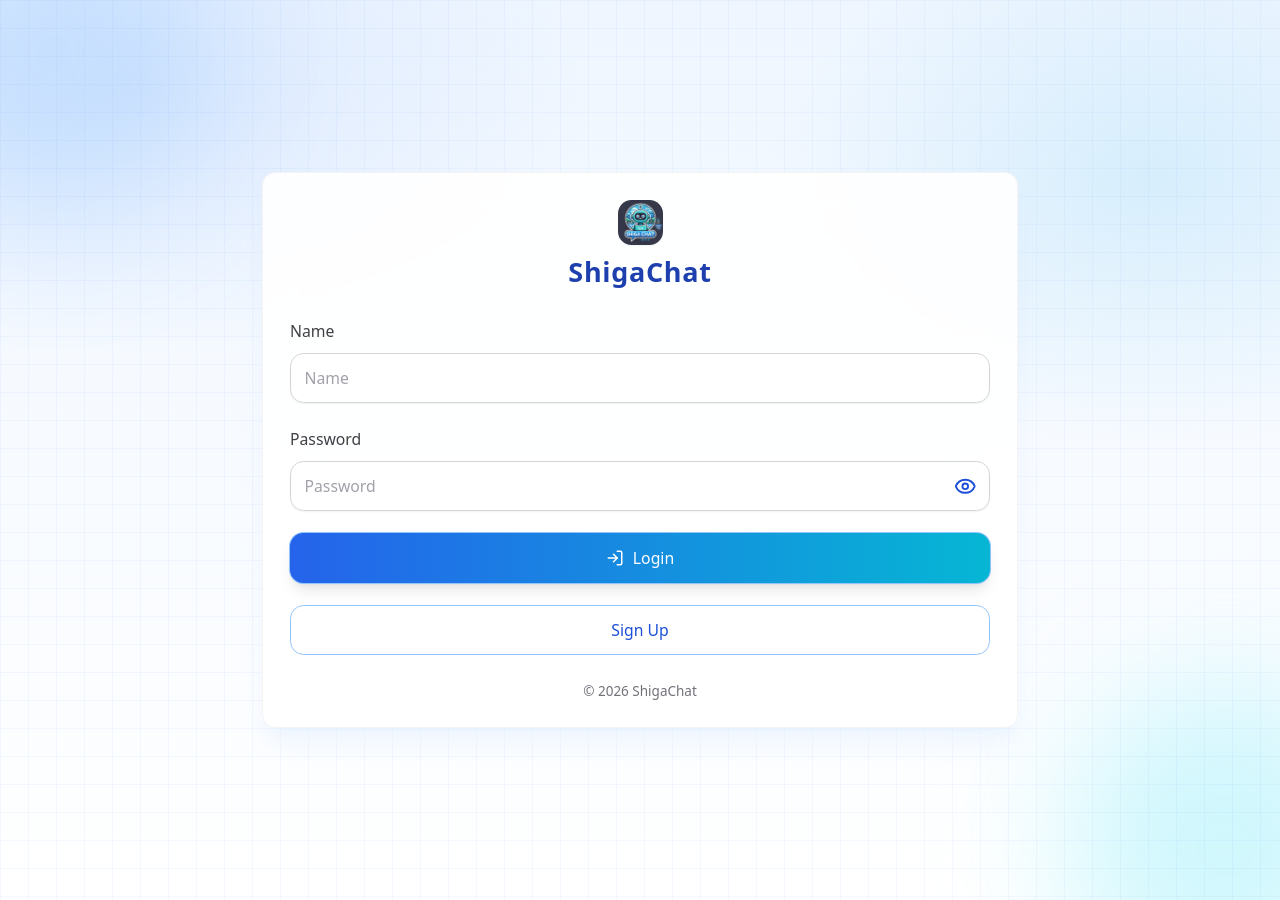
Test: revealing a password preserves the value and does not submit the form
Type "password123" into the password field labelled "Password" at [640, 486], box [290, 461, 990, 511]
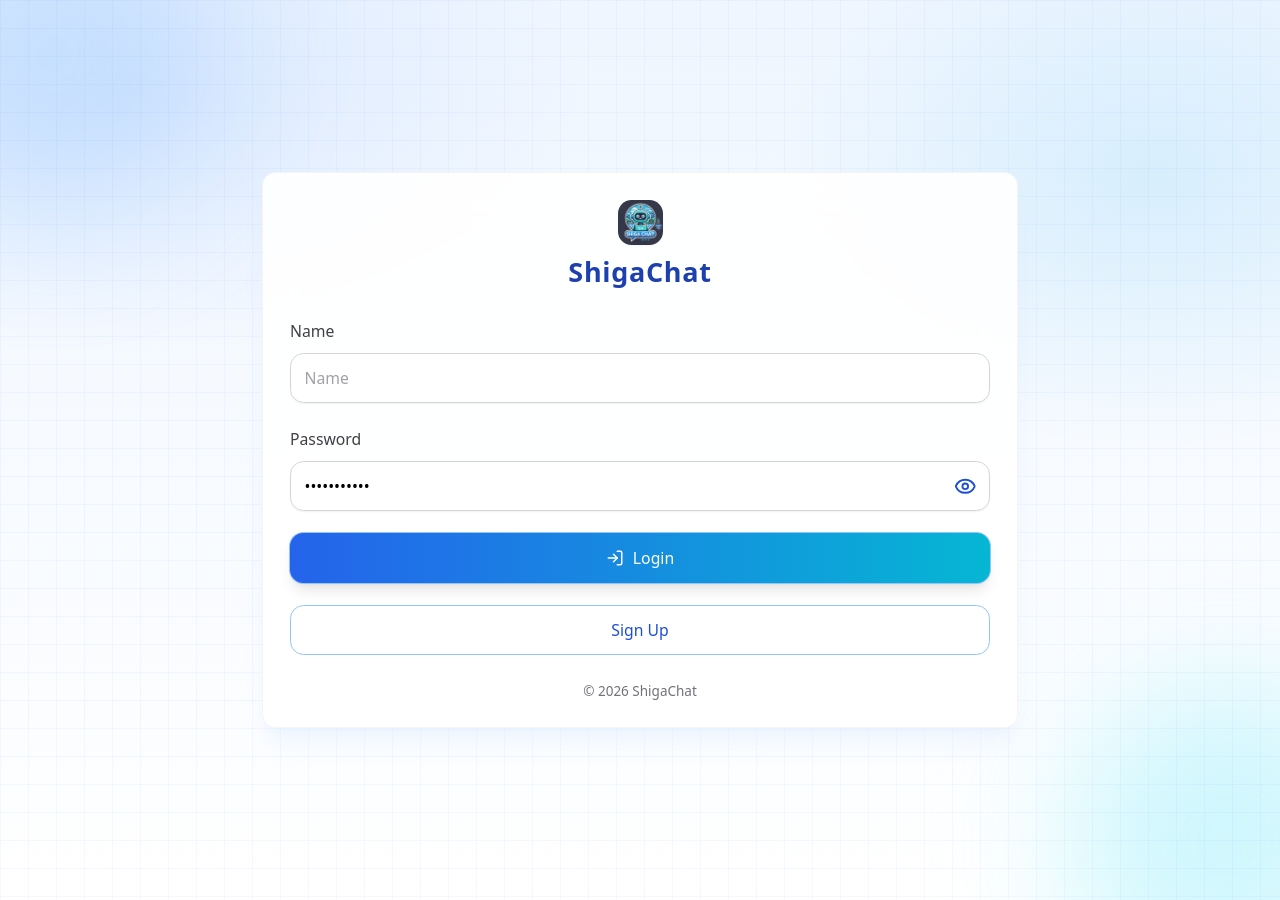
Click the button named "Show password" at [965, 486], box [947, 468, 983, 504]
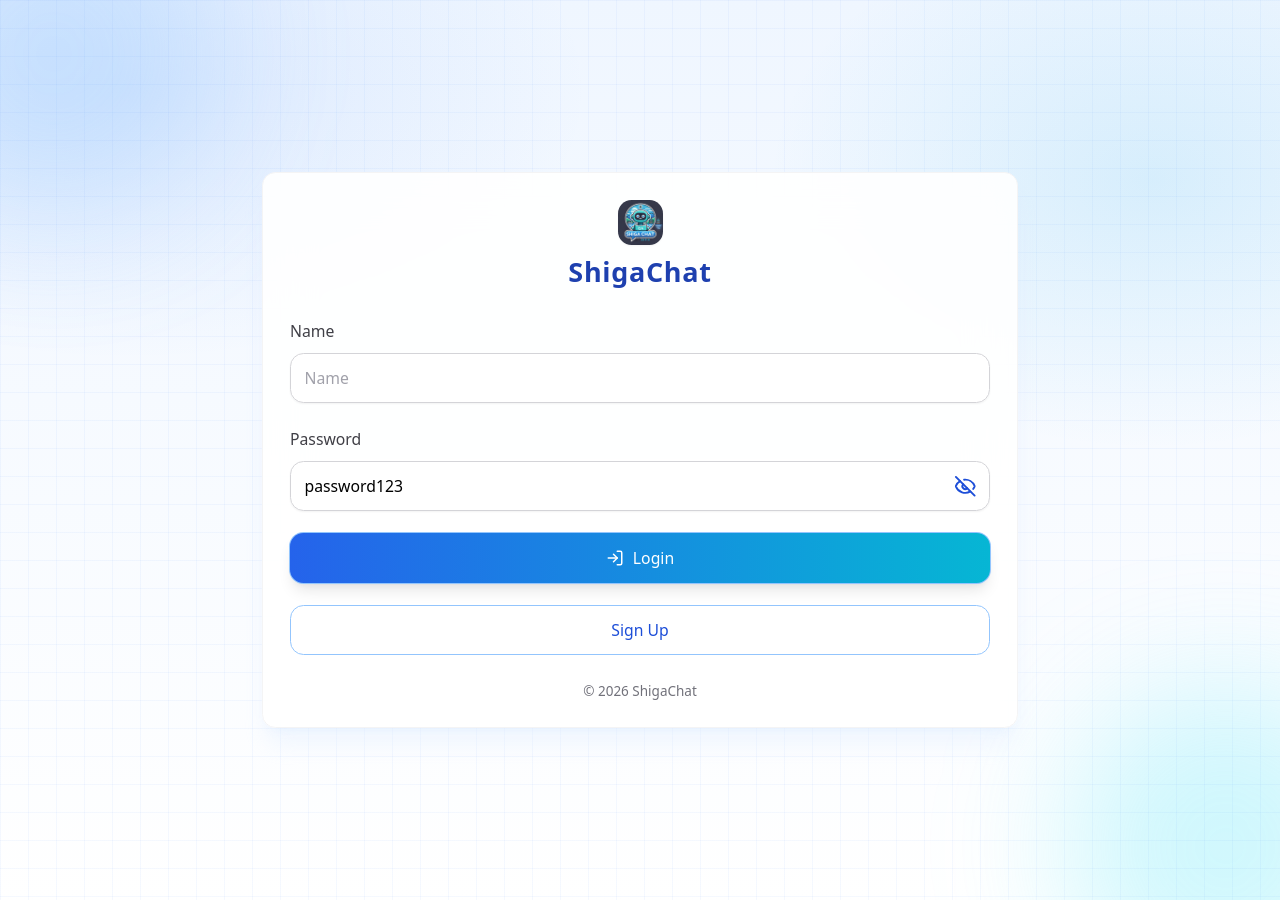
Expected: the field labelled "Password" shows its text, [290, 461, 990, 511]
